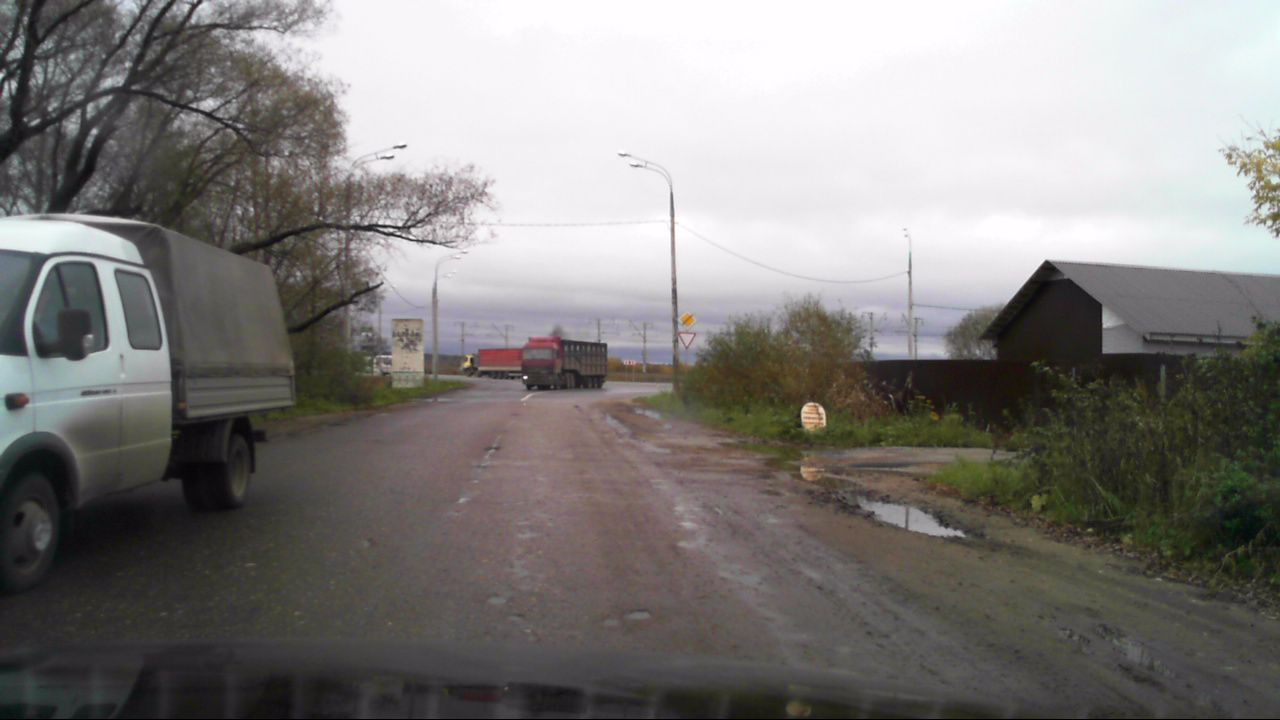main road: (677, 311, 696, 330)
